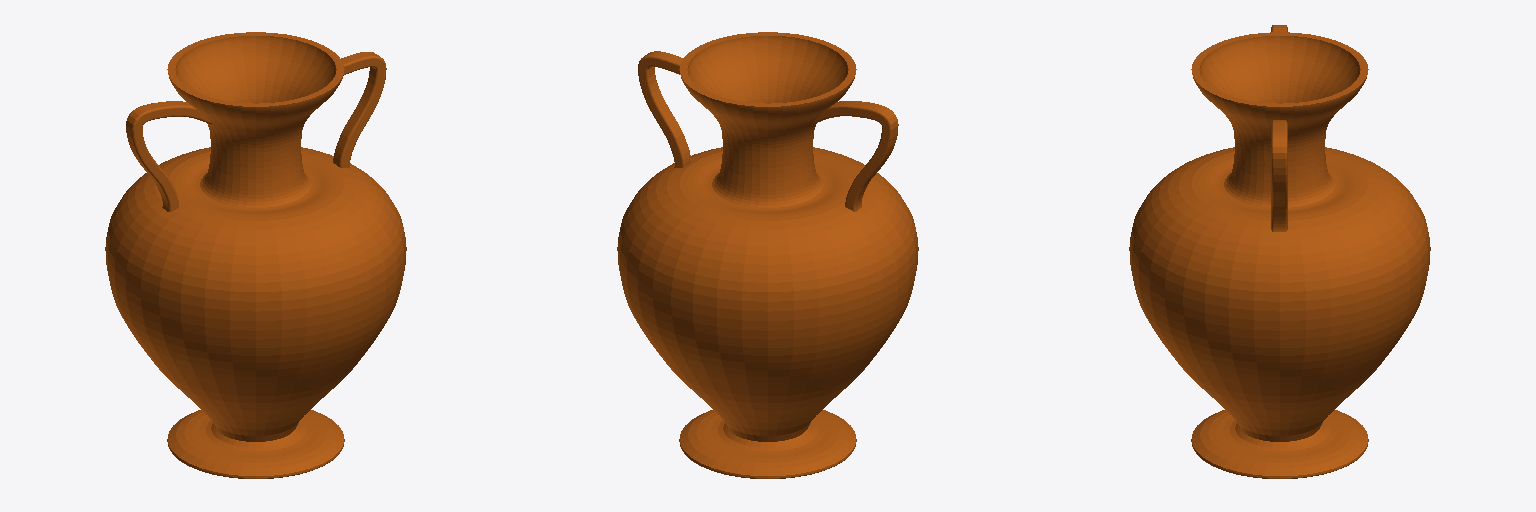
The model's file is amphora.obj.
3 renders of one model, left to right at view 1: azimuth 30°, elevation 25°; view 2: azimuth 150°, elevation 25°; view 3: azimuth 270°, elevation 25°, orthographic.
Visible parts, largest first — view 1: Object01; view 2: Object01; view 3: Object01.
Boxes of the visible parts, box(x1,y1,x2,y2) form: Object01: box(105, 32, 406, 478); Object01: box(617, 32, 918, 478); Object01: box(1129, 25, 1430, 478).
Bounding box in the file's own units: 190620 × 260387 × 190620.